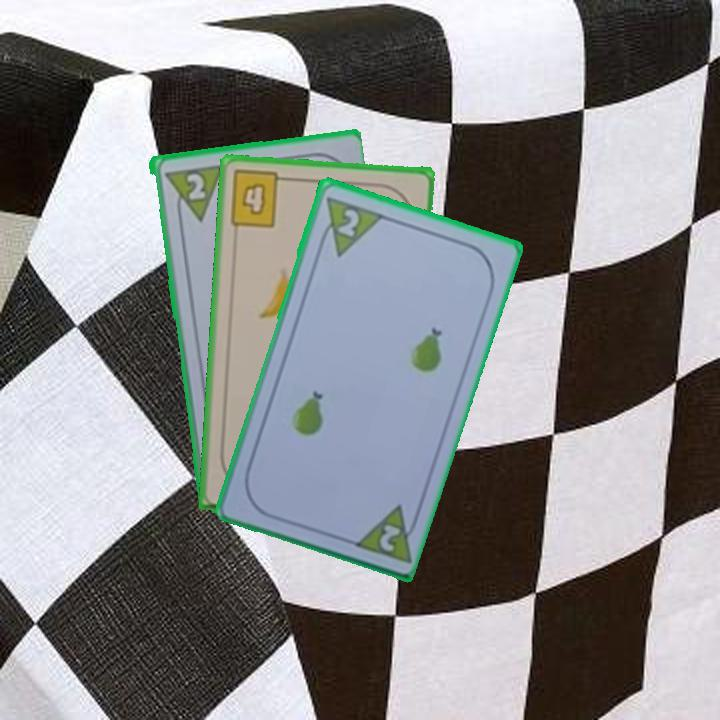2p: (313, 192, 386, 259), (375, 520, 404, 555), (182, 169, 208, 202)
4b: (226, 167, 293, 230)
